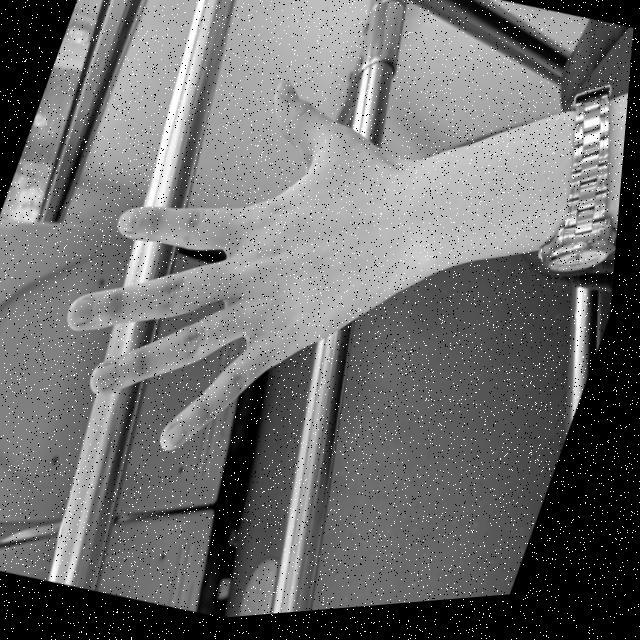no-gloves: (28, 37, 438, 502)
